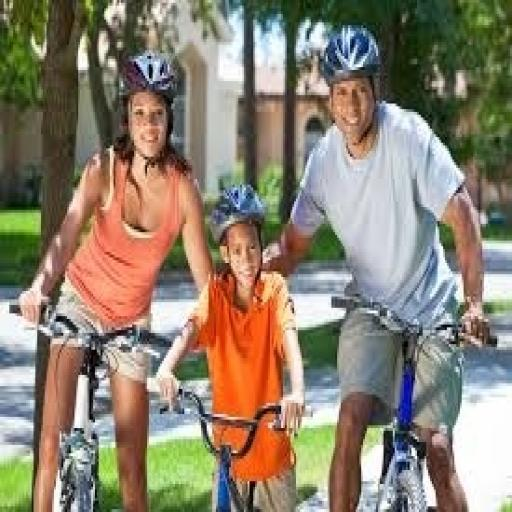cycling: (261, 22, 493, 510), (17, 48, 218, 509), (155, 179, 309, 509)
